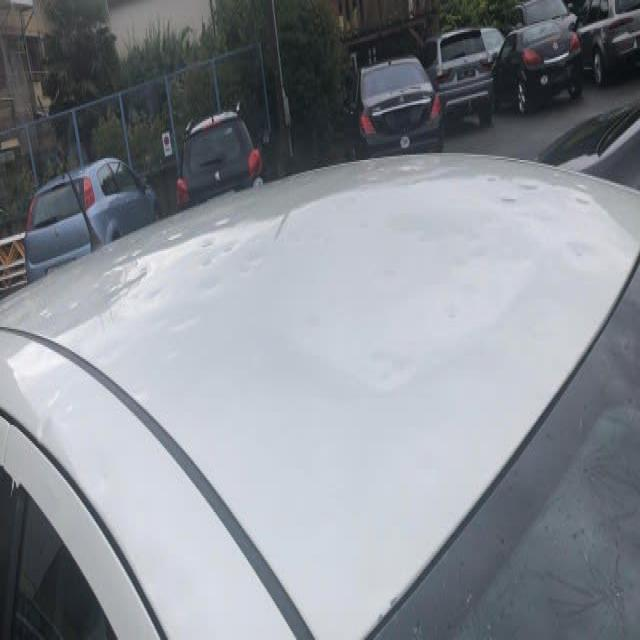roof-dent: (264, 176, 623, 618), (0, 242, 283, 612)
